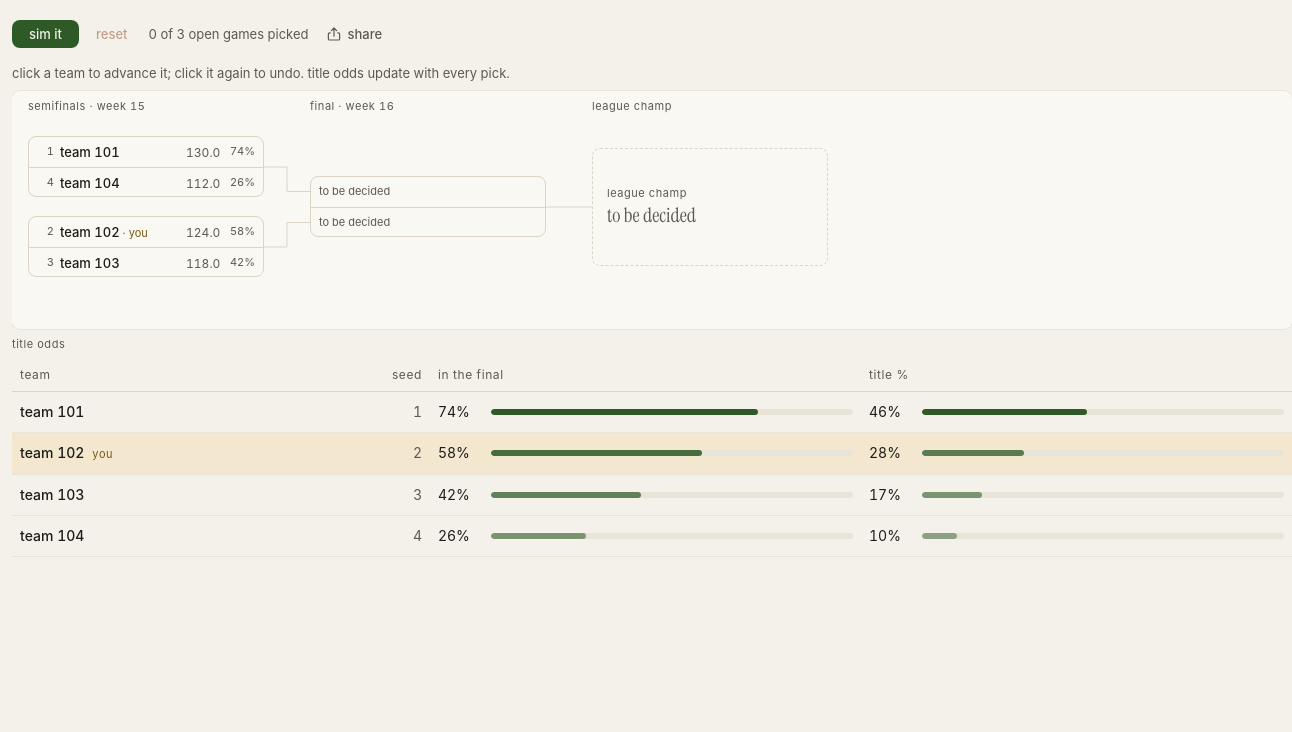
Test: Bracket: click to advance › clicking through to a champion shows the flourish: the name, the rule and "league champ"
This screenshot has width=1292, height=732.
Click the button "1 Team 101 130.0 74%".
click(146, 152)  # box [29,137,263,167]
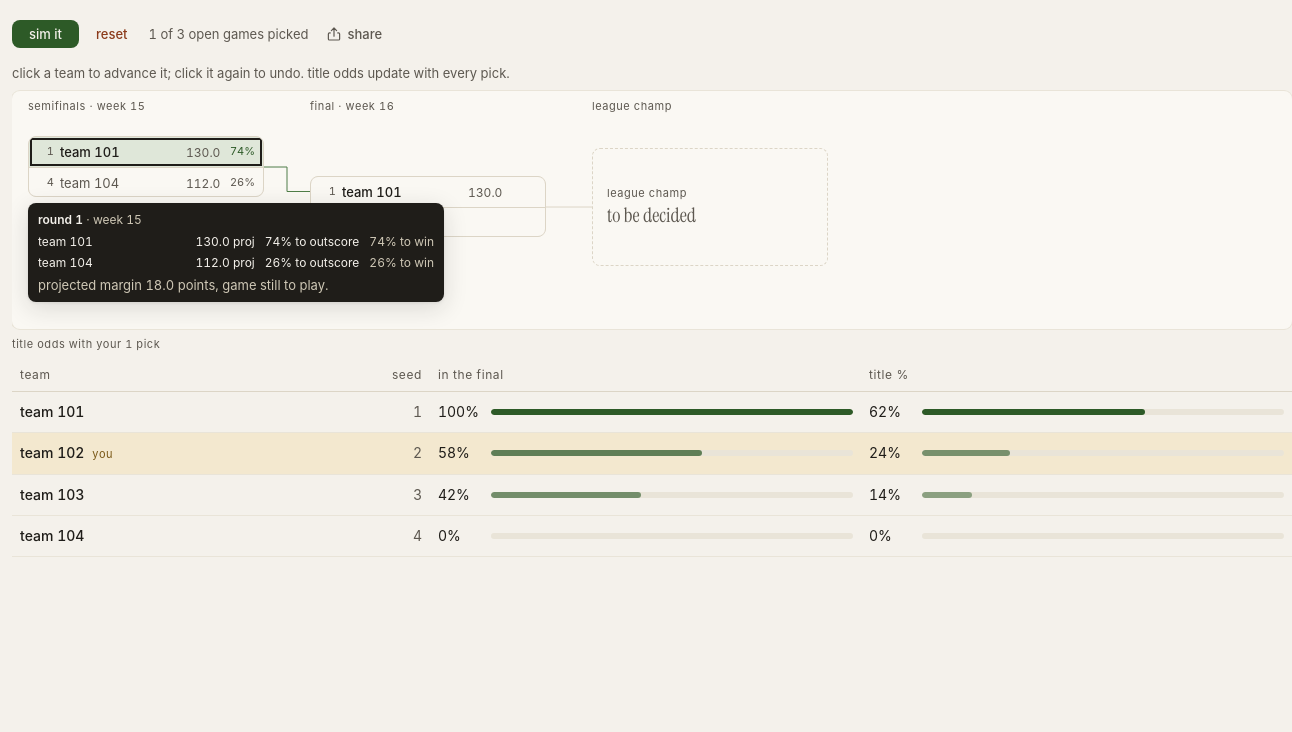
Click the button "3 Team 103 118.0 42%".
click(146, 263)  # box [29,248,263,278]
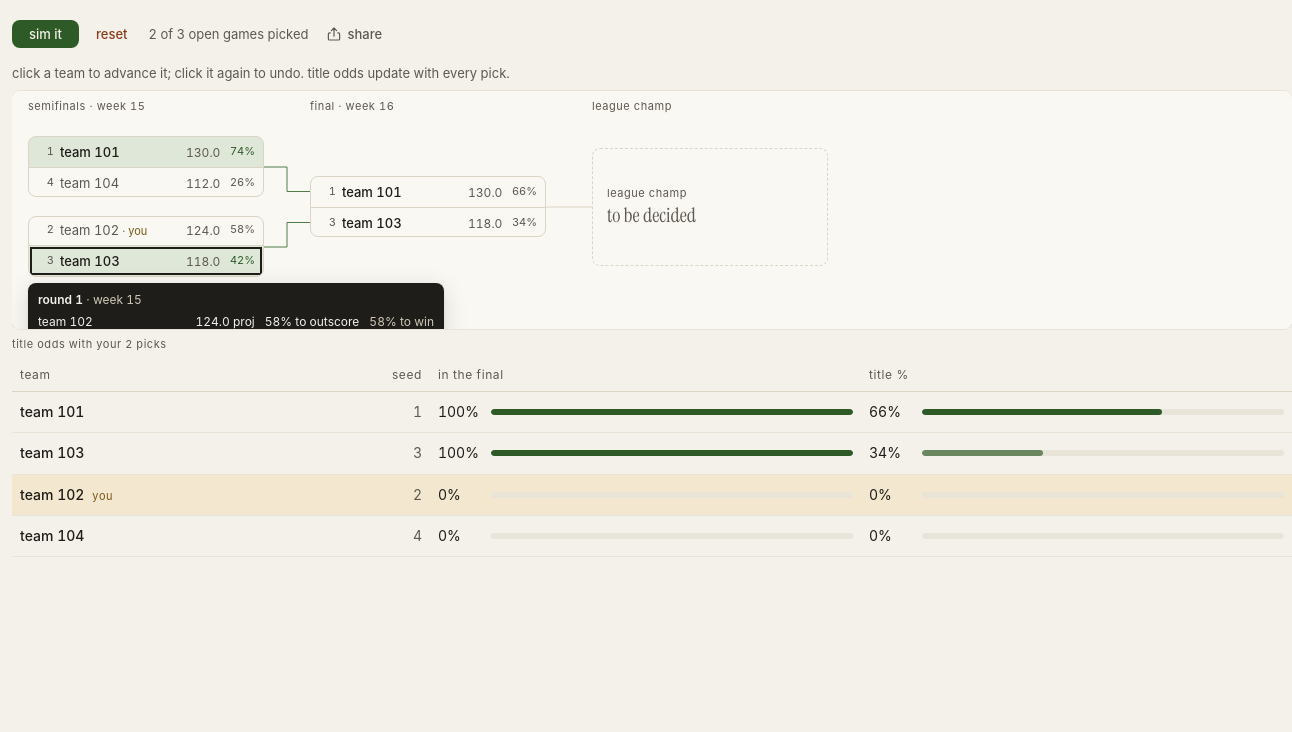
the final: Team 101 vs Team 103
Click the button "1 Team 101 130.0 66%".
click(428, 192)  # box [311,177,545,207]
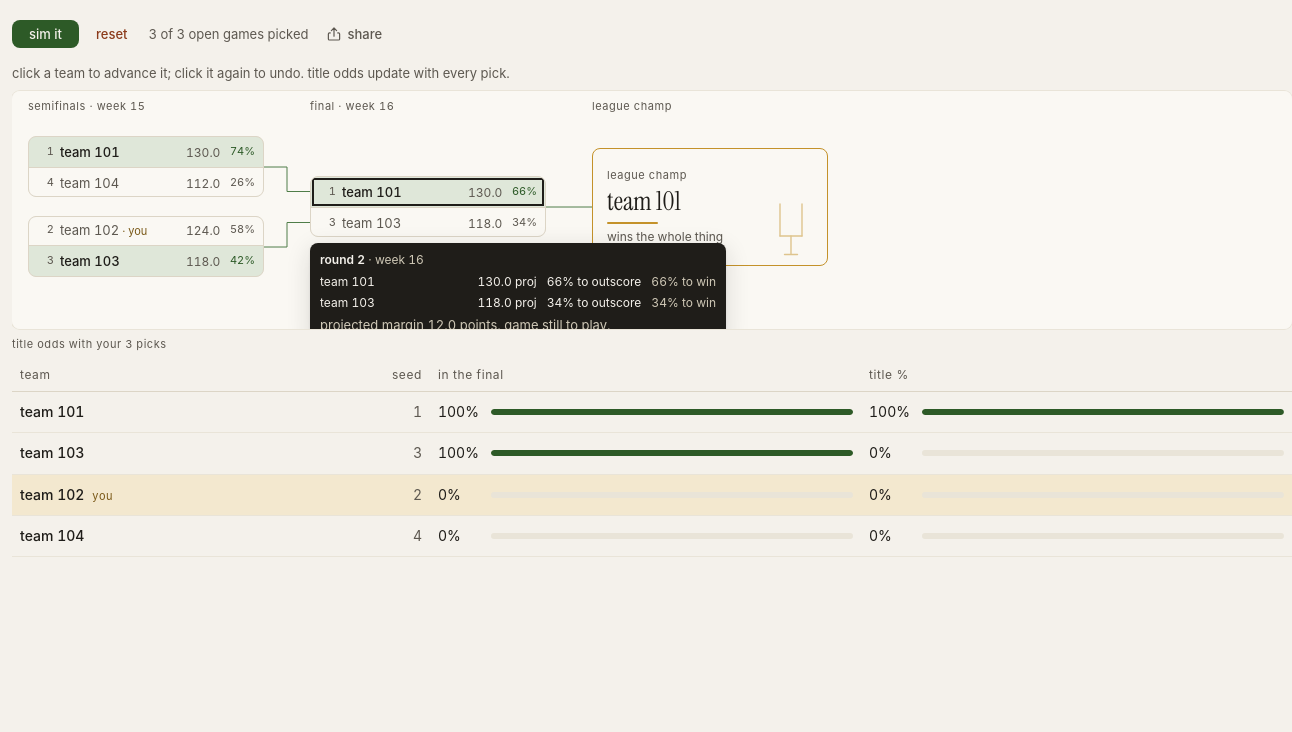
Expected: the element with class "br-champ" shows "league champ", [607,168,687,182]
Expected: the element with class "br-champ" shows "Team 101", [607,184,681,218]
Expected: the element with class "br-rule" is shown, [607,222,658,224]
